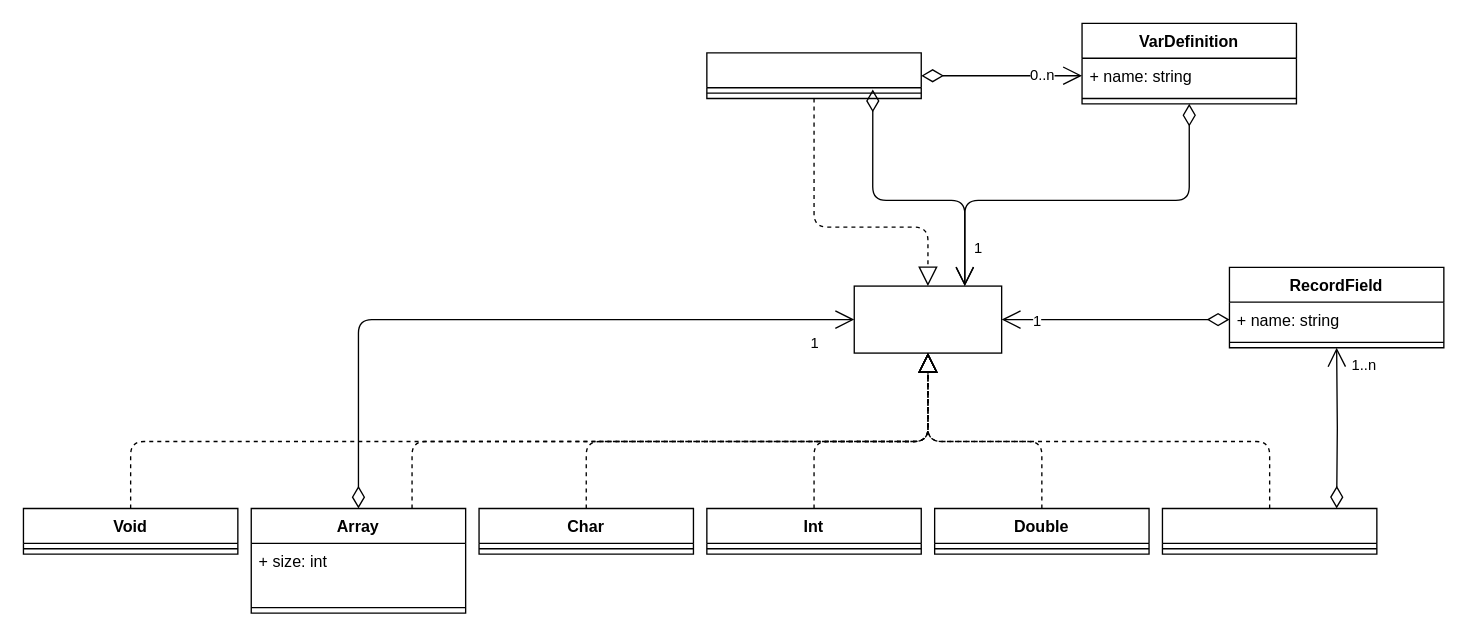
The diagram is 1467 pixels wide and 637 high, and some of its shapes have lost their labels. Each missing label, with the centre of its shape:
"Function" goes at (x=813, y=75).
"Struct" goes at (x=1269, y=530).
"«interface» Type" goes at (x=927, y=319).
